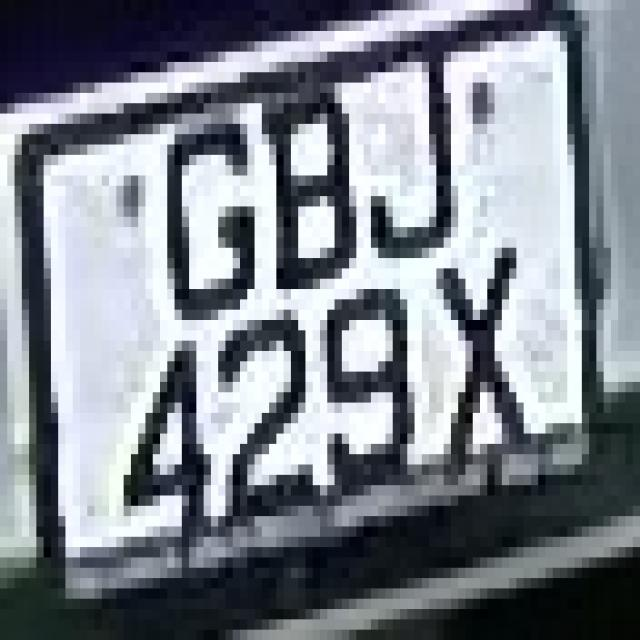2: (218, 269, 327, 516)
4: (102, 320, 211, 557)
9: (313, 279, 422, 526)
B: (232, 62, 364, 330)
G: (131, 103, 254, 310)
J: (349, 41, 473, 258)
X: (414, 217, 552, 526)
